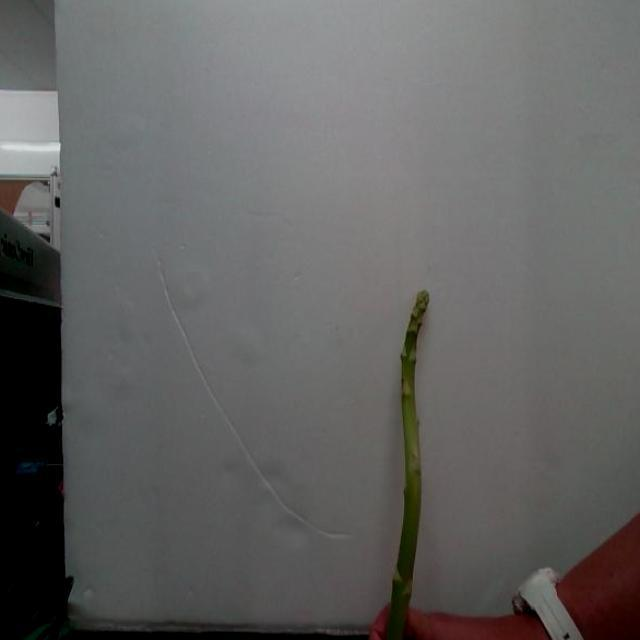aspargus: (385, 294, 430, 640)
